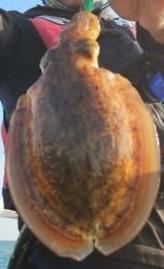Cephalopod: (6, 11, 160, 264)
